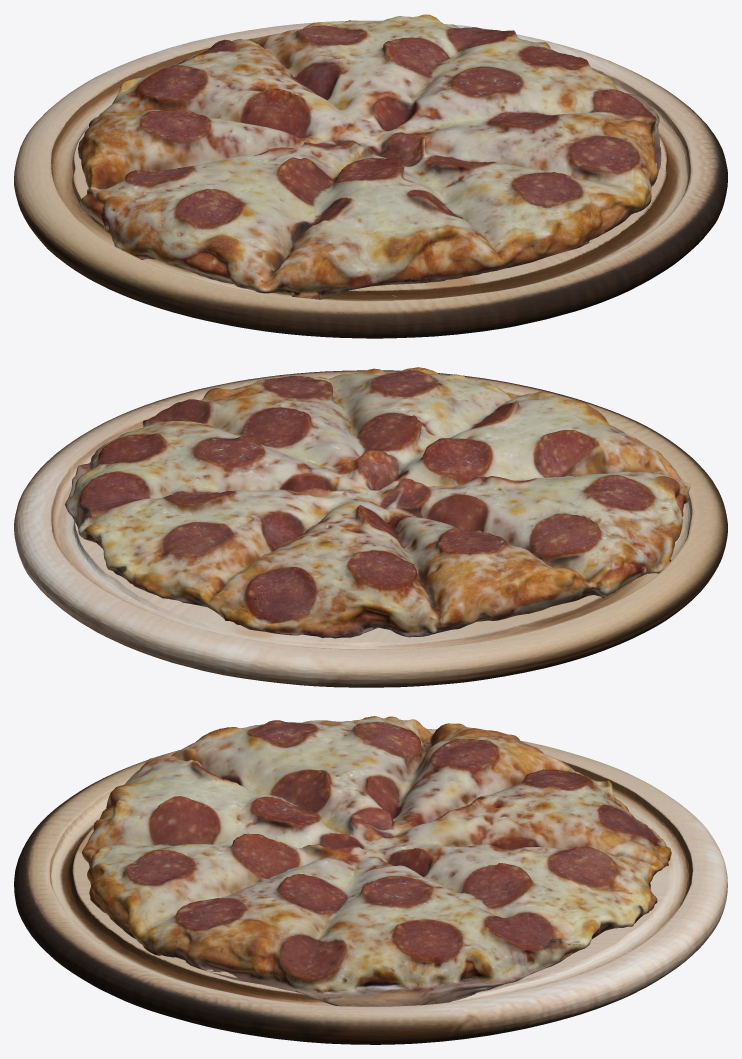
Rendered from pizza.pep.glb.
3 renders of one model, top to bottom at view 1: azimuth 30°, elevation 25°; view 2: azimuth 150°, elevation 25°; view 3: azimuth 270°, elevation 25°, orthographic.
Visible parts, largest first — view 1: 3DModel, world.001; view 2: 3DModel, world.001; view 3: 3DModel, world.001.
Part boxes in pixels (left/top/right/bottom): 3DModel: left=78, top=14, right=661, bottom=299; world.001: left=14, top=20, right=727, bottom=338; 3DModel: left=64, top=367, right=690, bottom=638; world.001: left=14, top=370, right=727, bottom=687; 3DModel: left=81, top=716, right=671, bottom=1006; world.001: left=14, top=728, right=727, bottom=1044.
Size of the model in its own units: 0.4319 by 0.0539 by 0.4319.
2 materials, 2 textured.
